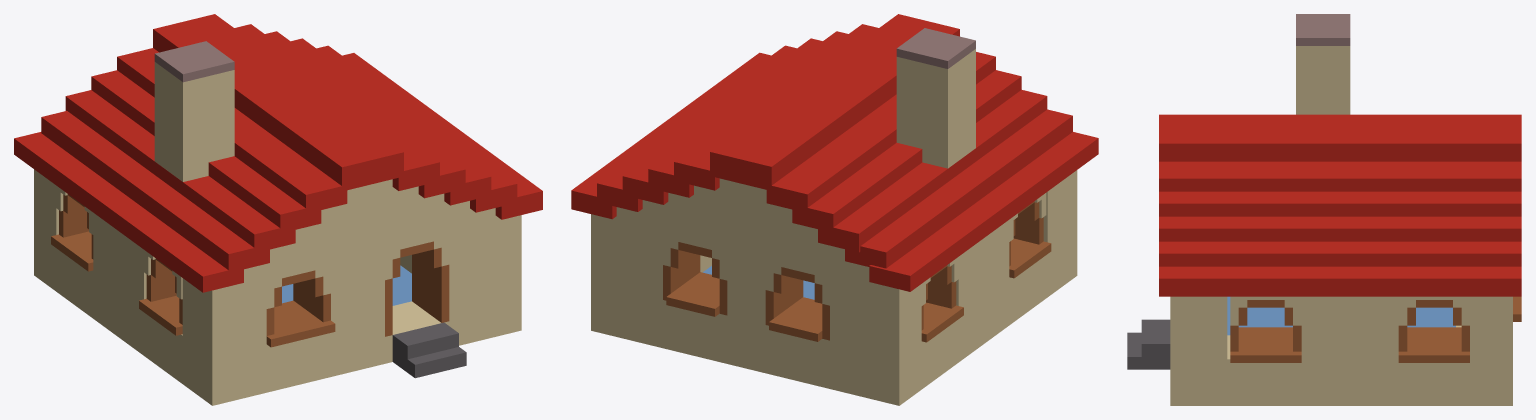
File: pho-nha-nen-6.glb
The picture shows the model from 3 angles, left to right: view 1: azimuth 30°, elevation 25°; view 2: azimuth 150°, elevation 25°; view 3: azimuth 270°, elevation 25°; orthographic projection. The views are drawn at different scales.
Visible parts, largest first — view 1: pho-nha-nen-6; view 2: pho-nha-nen-6; view 3: pho-nha-nen-6.
Part boxes in pixels (<box>): pho-nha-nen-6: <box>14,14,542,405</box>; pho-nha-nen-6: <box>571,14,1098,405</box>; pho-nha-nen-6: <box>1127,14,1521,405</box>.
Bounding box in the file's own units: 13.2 × 10.2 × 13.8.
